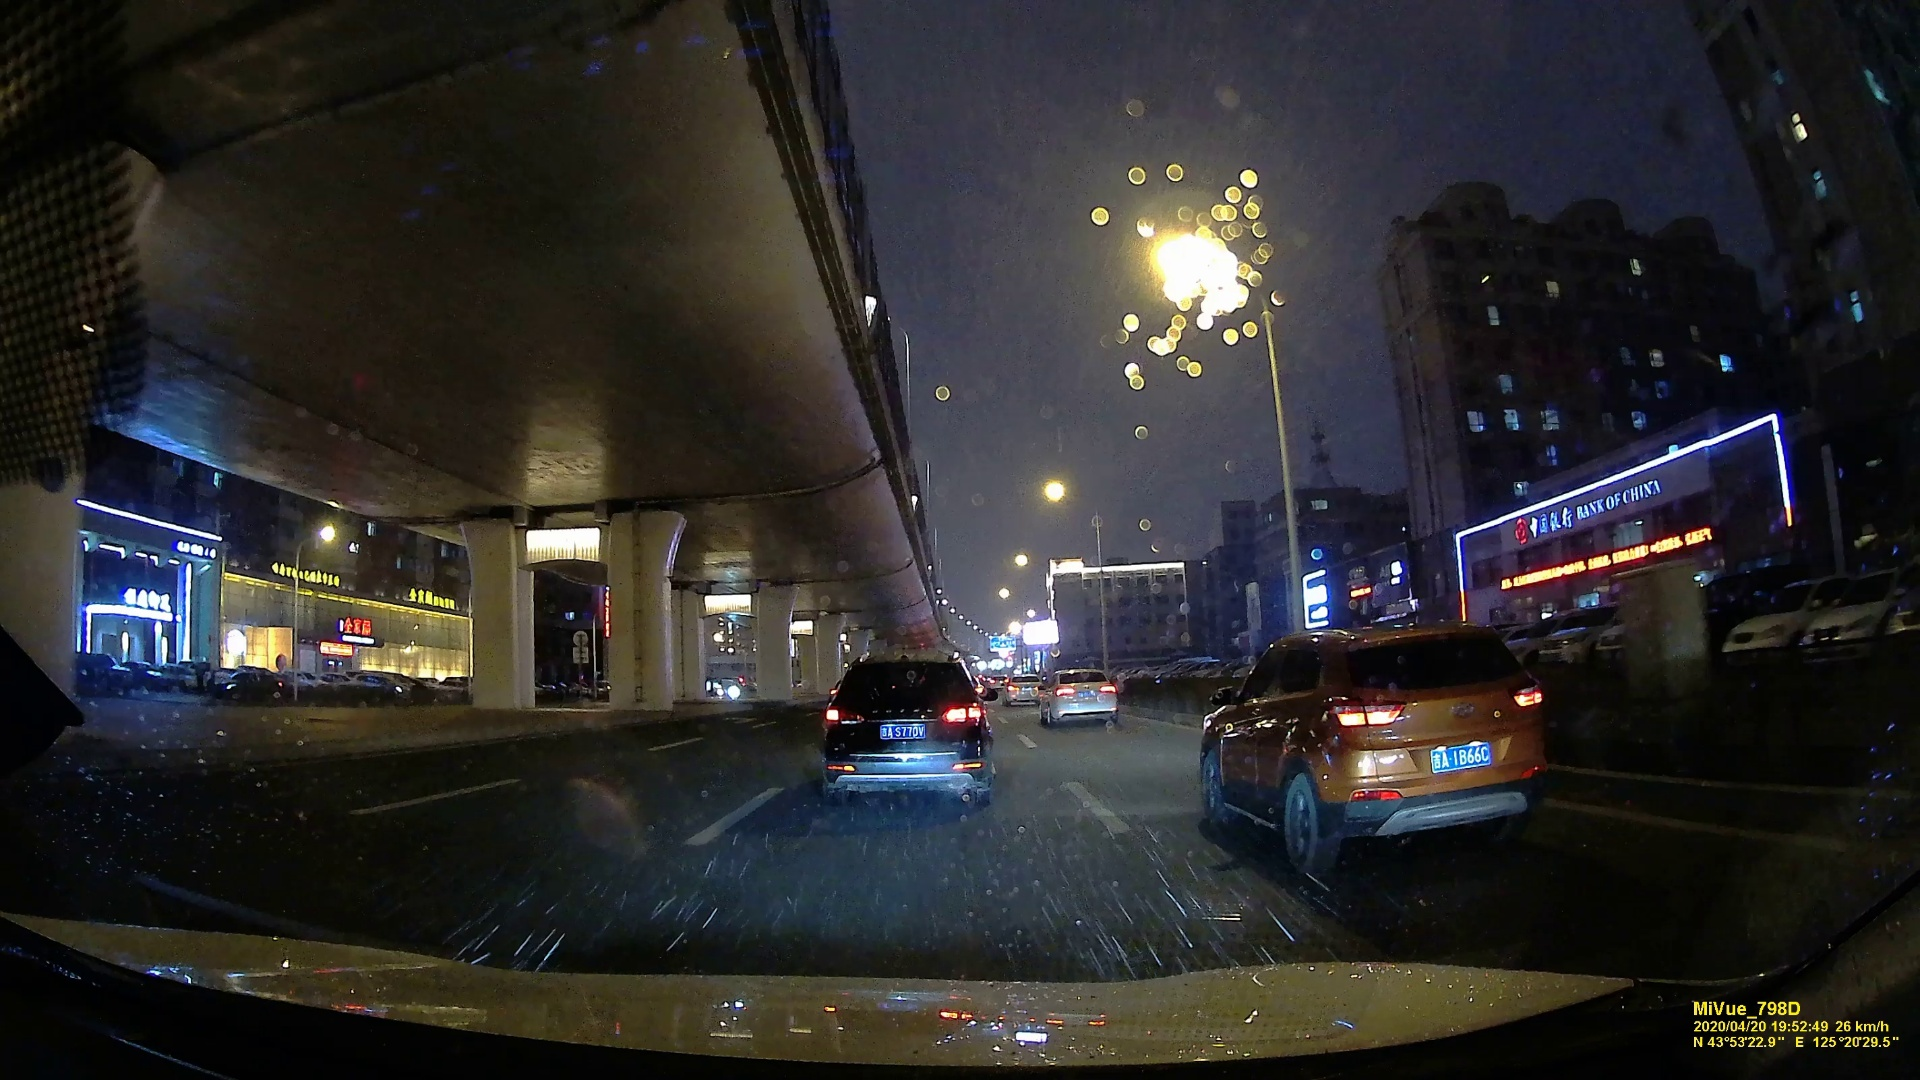vehicle: (1197, 621, 1549, 876), (819, 659, 982, 811), (1040, 667, 1120, 727), (1001, 673, 1040, 705)
